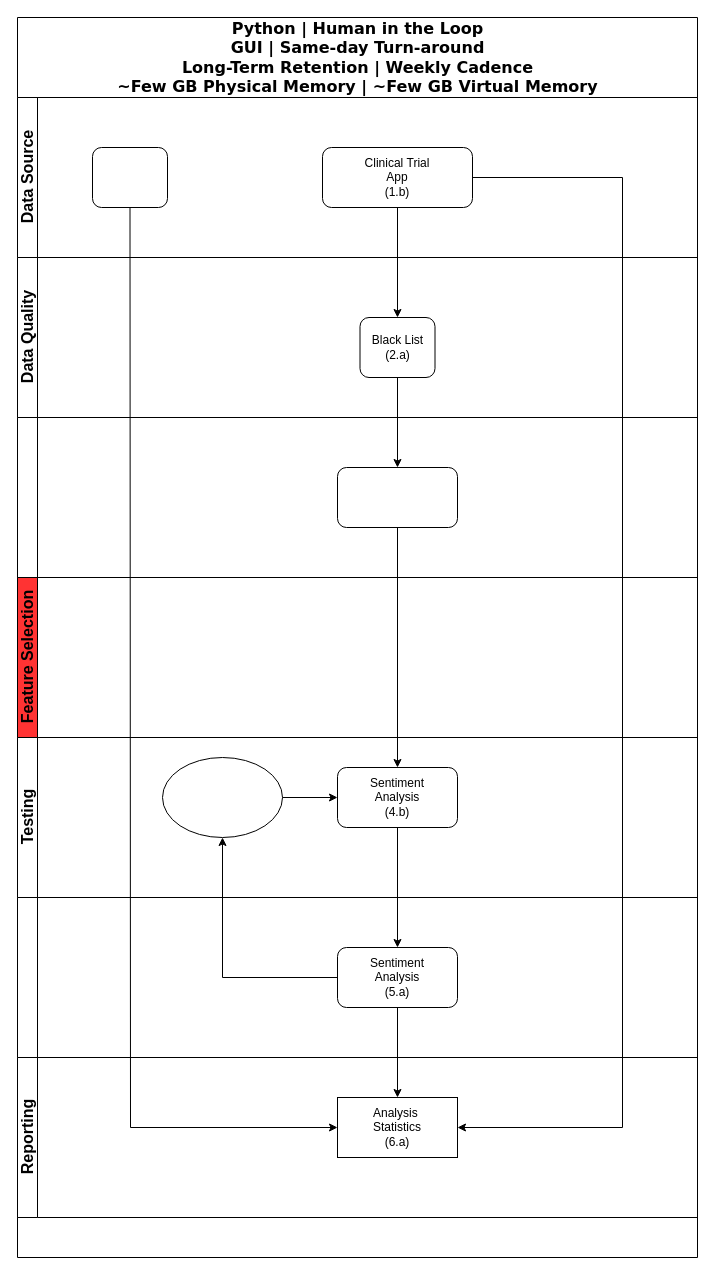
The diagram is 715 pixels wide and 1275 high, and some of its shapes have lost their labels. The shapes that lost their labels are listed below. From the top down, each one's box as (x1, y1, x2, y2) in pixels, then its label:
(92, 146, 168, 208): Redcap (1.a)
(16, 416, 698, 578): Preprocessing
(336, 466, 458, 528): Tokenization, Lematization, Stop Words, etc. (3.a)
(162, 756, 282, 838): Hyperparameters (4.a)
(16, 896, 698, 1058): Training
